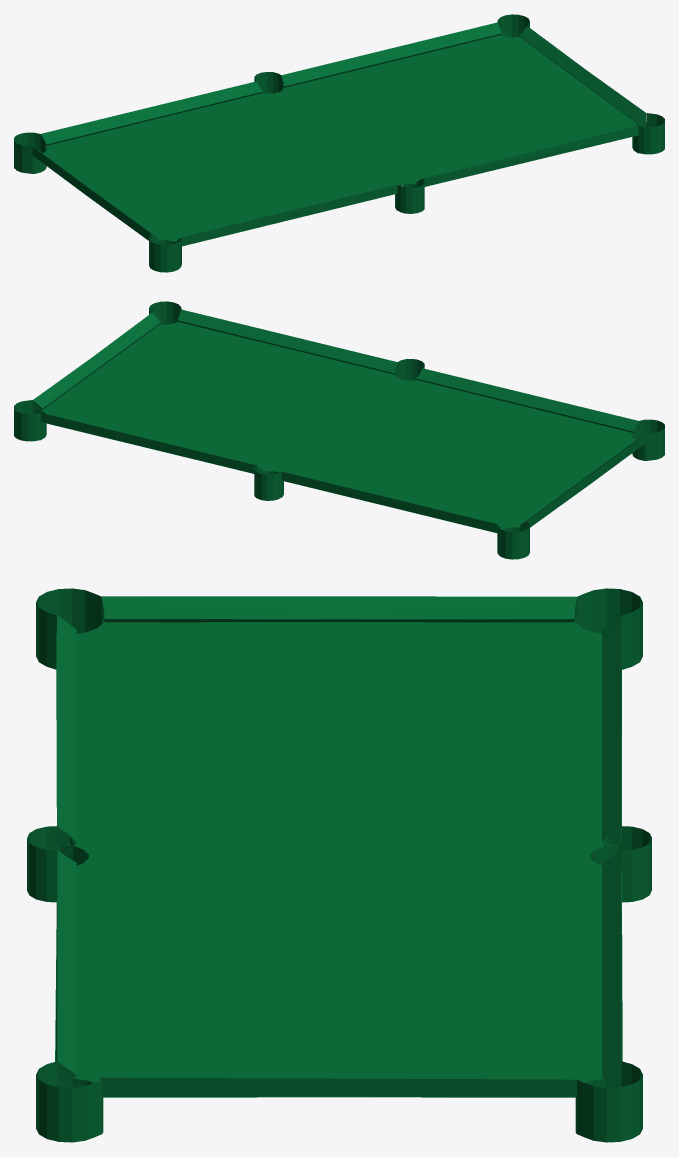
3 renders of one model, top to bottom at view 1: azimuth 30°, elevation 25°; view 2: azimuth 150°, elevation 25°; view 3: azimuth 270°, elevation 25°, orthographic. The views are drawn at different scales.
Visible parts, largest first — view 1: mat_Plane.006, thanh.001_Plane.004; view 2: mat_Plane.006, thanh.001_Plane.004; view 3: mat_Plane.006, thanh.001_Plane.004.
Part boxes in pixels (x1,y1,x2,y2): mat_Plane.006: (14, 14, 664, 272); thanh.001_Plane.004: (32, 22, 645, 245); mat_Plane.006: (14, 301, 664, 559); thanh.001_Plane.004: (32, 309, 646, 532); mat_Plane.006: (27, 588, 651, 1142); thanh.001_Plane.004: (55, 596, 621, 1097).
Bounding box in the file's own units: 3.53 × 0.1846 × 1.86.
